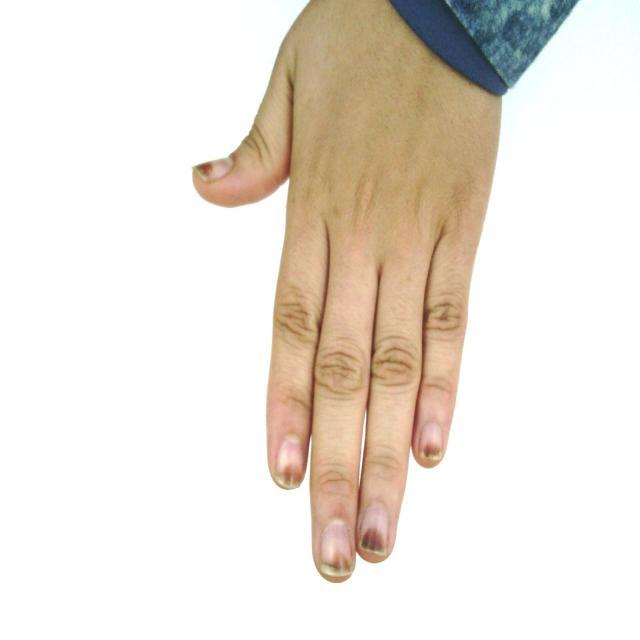Fingernail: (319, 522, 353, 580), (359, 504, 389, 558), (275, 438, 304, 488), (194, 156, 234, 183), (418, 423, 443, 464)
